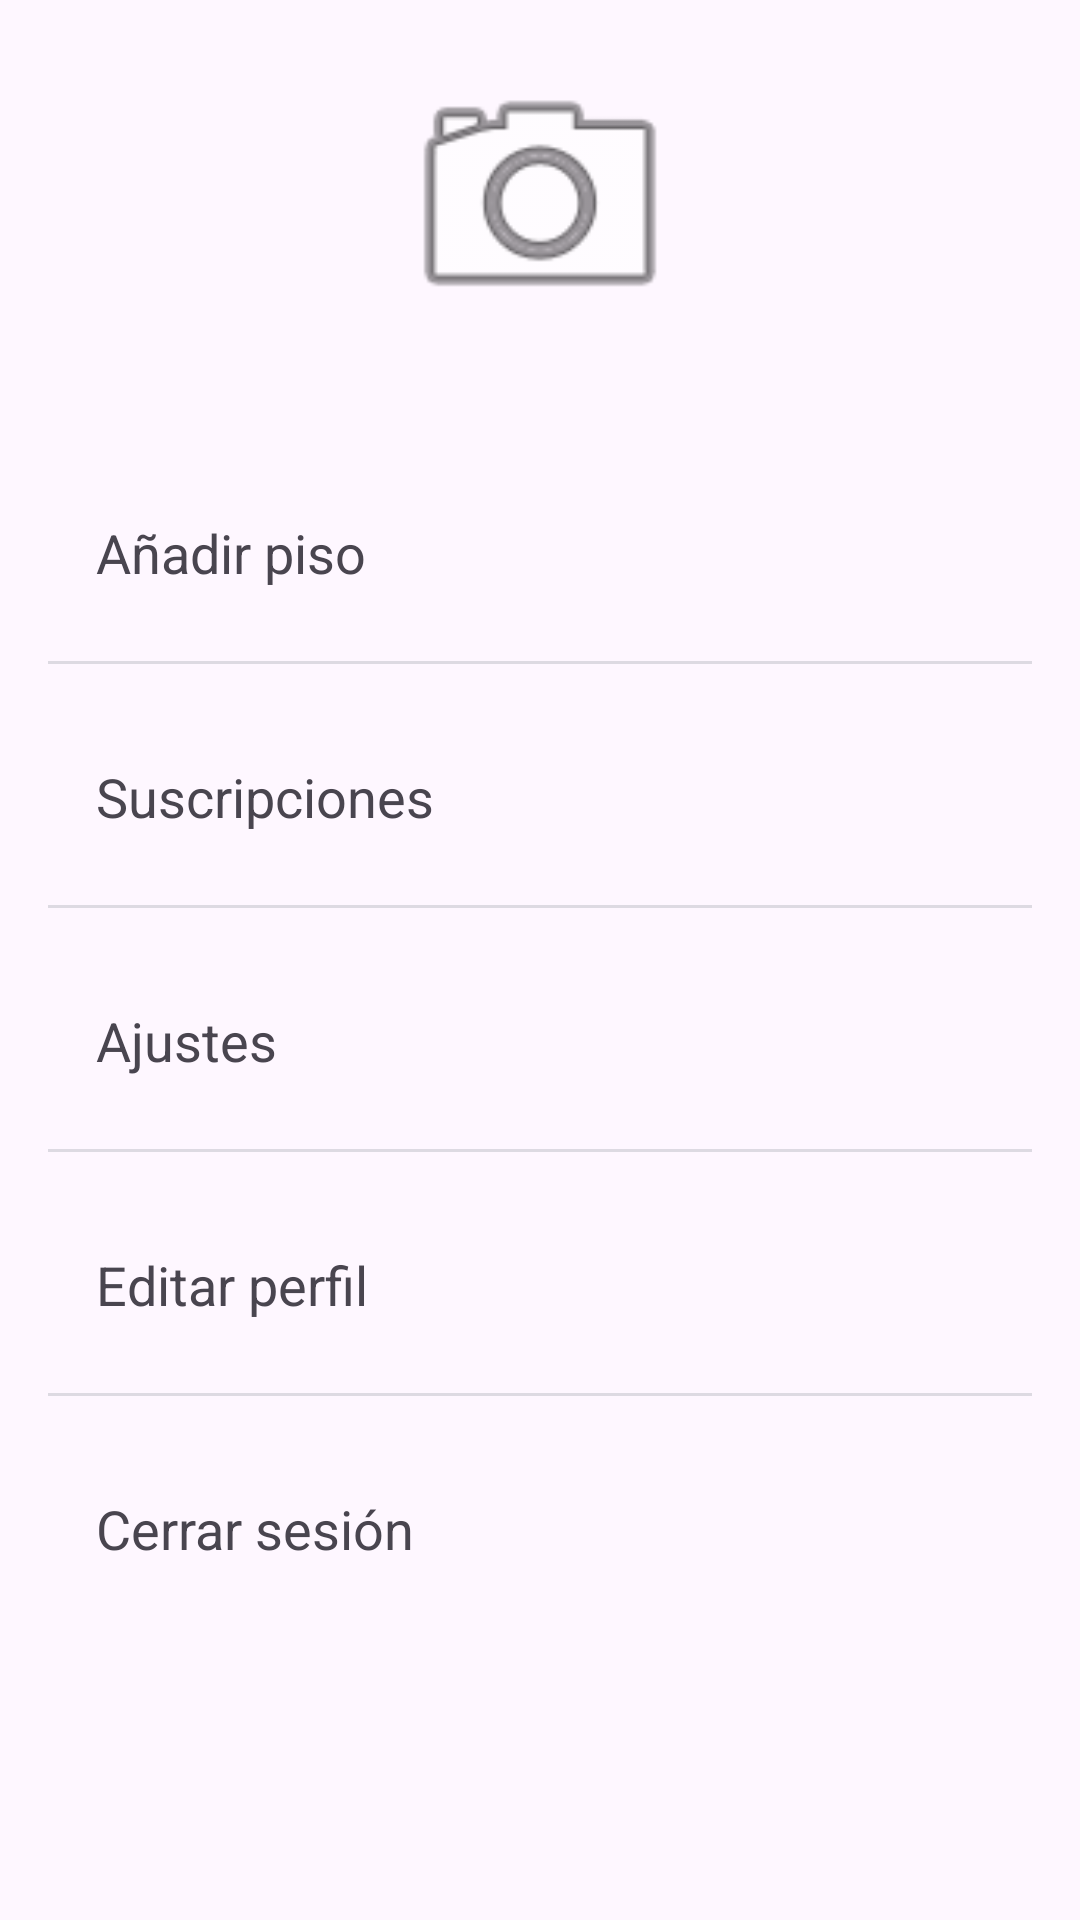

Screen size 1080 x 1920. Icon name, then its center in pixels as (x,y):
camera: (540,193)
